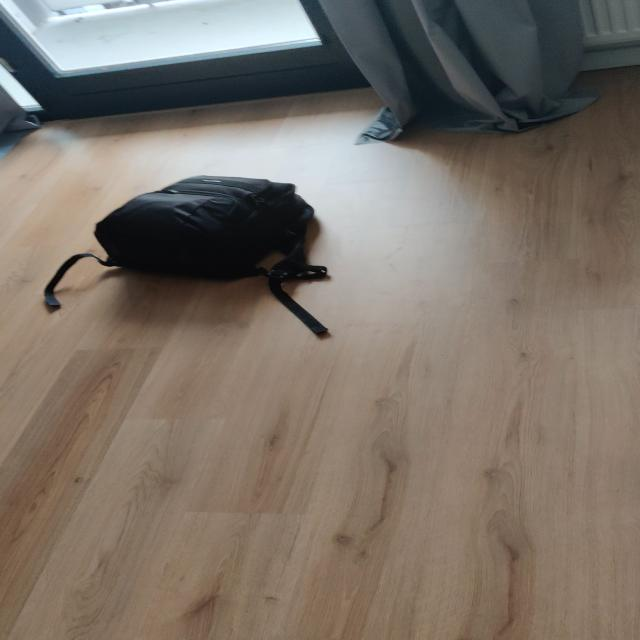backpack: (88, 168, 328, 286)
